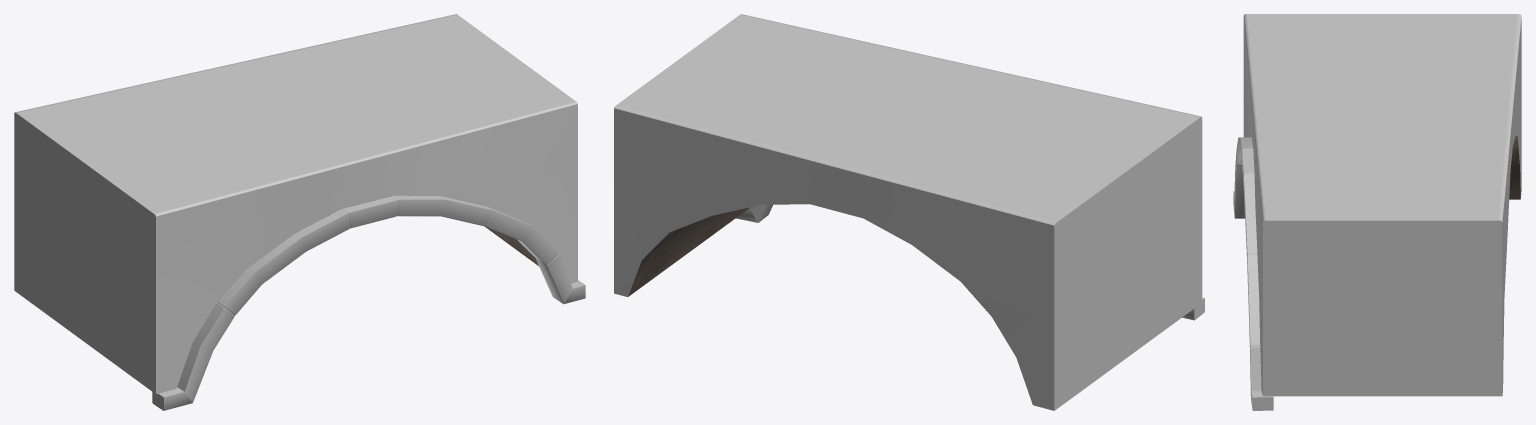
The model's file is OUT_Sec3_Ceiling_1-ang4_5.fbx.
3 views of the same model, side by side, from view 1: azimuth 30°, elevation 25°; view 2: azimuth 150°, elevation 25°; view 3: azimuth 270°, elevation 25° (orthographic). The views are drawn at different scales.
Visible parts, largest first — view 1: OUT_Sec3_Ceiling_1-ang4'5; view 2: OUT_Sec3_Ceiling_1-ang4'5; view 3: OUT_Sec3_Ceiling_1-ang4'5.
Part boxes in pixels (x1,y1,x2,y2): OUT_Sec3_Ceiling_1-ang4'5: (14, 14, 585, 410); OUT_Sec3_Ceiling_1-ang4'5: (614, 14, 1204, 410); OUT_Sec3_Ceiling_1-ang4'5: (1233, 14, 1521, 410).
Size of the model in its own units: 9.75 by 4.13 by 5.72.
